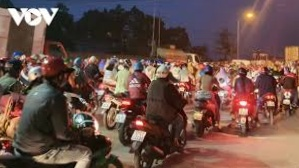Bien-so: (134, 129, 150, 141), (120, 112, 132, 122), (109, 98, 120, 106), (236, 114, 246, 122), (278, 108, 286, 114), (263, 109, 270, 115)
